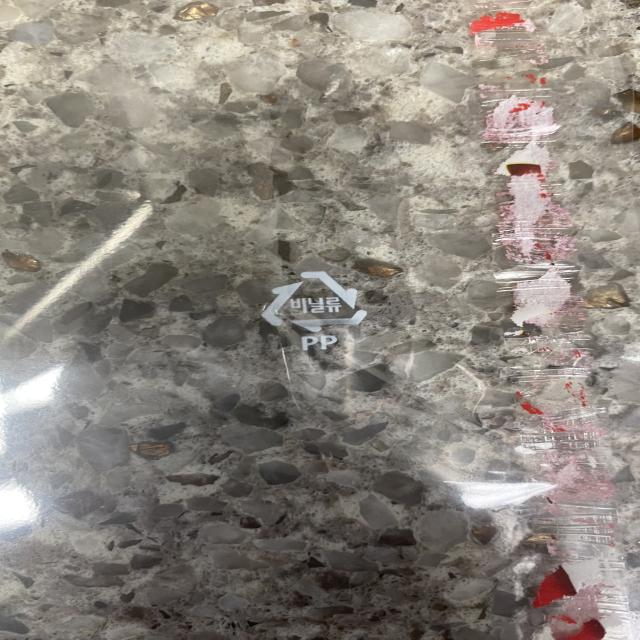Vinyl: (244, 263, 375, 335)
